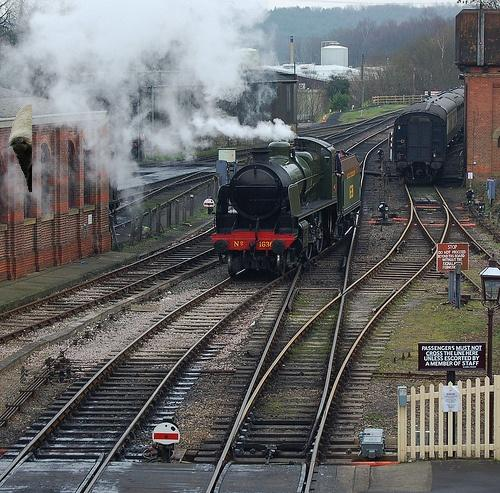tampered: (9, 105, 32, 192)
